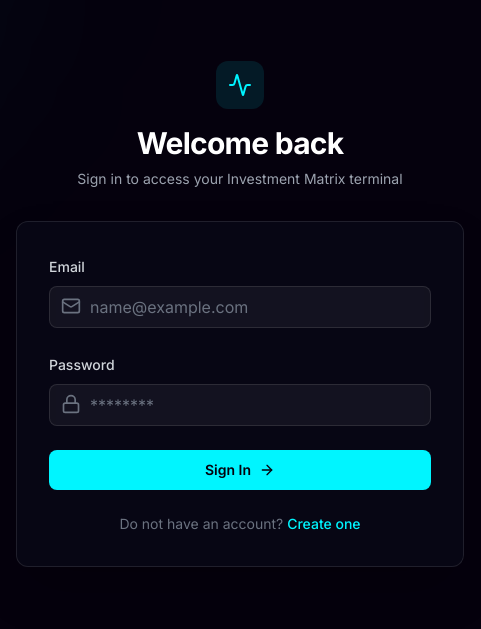
LoginPage › renders an error when the cookie session is not confirmed
This screenshot has width=481, height=629.
Type "trader@example.com" into the field with placeholder "name@example.com" at (240, 307), box [49,286,431,328]
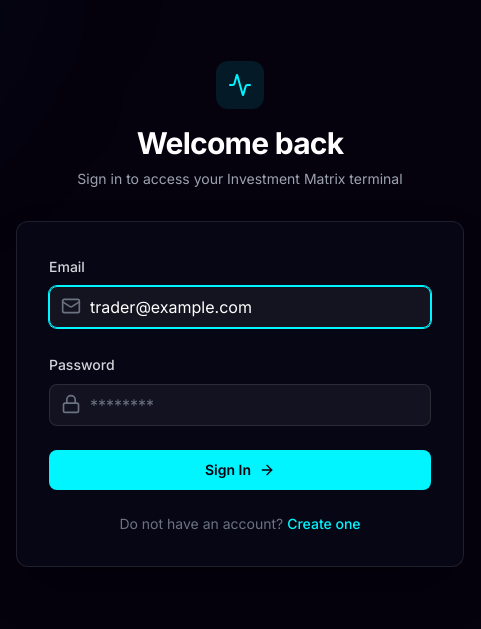
Type "hunter2" into the password field with placeholder "********" at (240, 405), box [49,384,431,426]
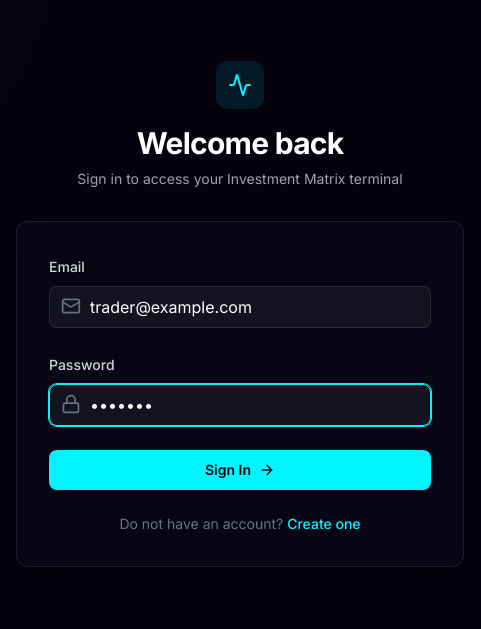
Click the button "Sign In" at (240, 470), box [49,450,431,490]
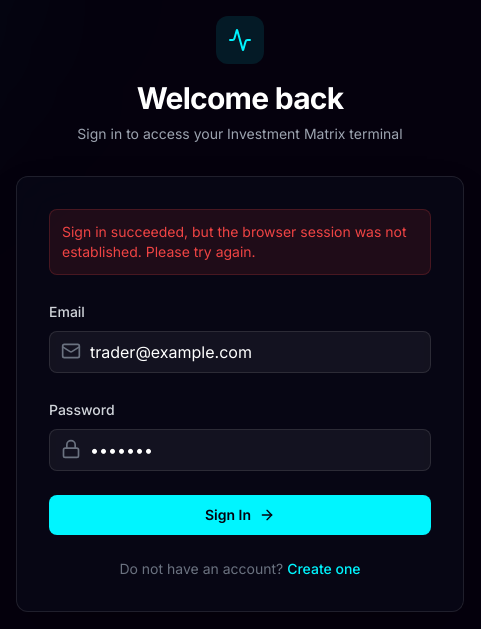
Check: the text "Sign in succeeded, but the browser session was not established. Please try again." is shown, box [62,223,406,260]
